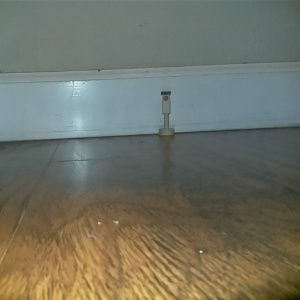traffic light red: (157, 89, 175, 137)
